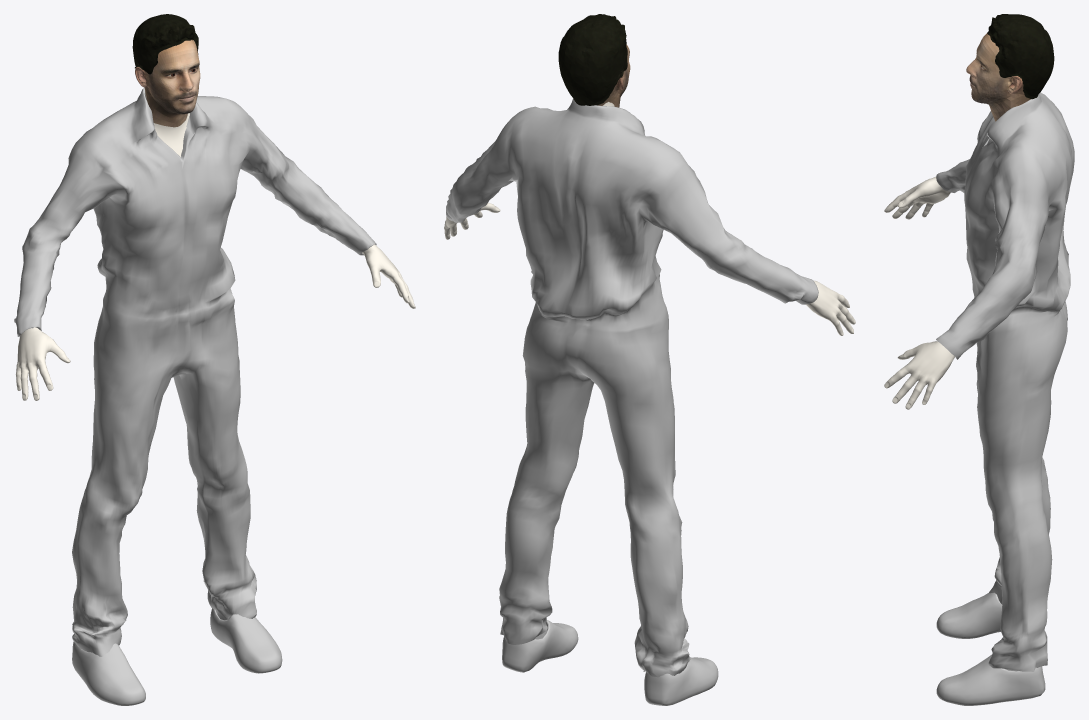
Rendered from Ajay.fbx.
3 views of the same model, side by side, from view 1: azimuth 30°, elevation 25°; view 2: azimuth 150°, elevation 25°; view 3: azimuth 270°, elevation 25° (orthographic). The views are drawn at different scales.
Visible parts, largest first — view 1: male_casualsuit01Mesh, model.002, shoes05Mesh, 3d_body_characterMesh; view 2: male_casualsuit01Mesh, model.002, shoes05Mesh, 3d_body_characterMesh; view 3: male_casualsuit01Mesh, model.002, shoes05Mesh, 3d_body_characterMesh.
Boxes of the visible parts, left/top/right/bottom form: male_casualsuit01Mesh: left=14, top=88, right=376, bottom=656; model.002: left=132, top=14, right=200, bottom=127; shoes05Mesh: left=72, top=608, right=282, bottom=705; 3d_body_characterMesh: left=15, top=91, right=415, bottom=400; male_casualsuit01Mesh: left=446, top=99, right=818, bottom=677; model.002: left=558, top=14, right=630, bottom=107; shoes05Mesh: left=502, top=620, right=718, bottom=705; 3d_body_characterMesh: left=444, top=102, right=855, bottom=335; male_casualsuit01Mesh: left=936, top=92, right=1074, bottom=671; model.002: left=966, top=14, right=1054, bottom=121; shoes05Mesh: left=936, top=592, right=1045, bottom=705; 3d_body_characterMesh: left=884, top=176, right=954, bottom=409.
Bounding box in the file's own units: 1062 × 1677 × 447.
